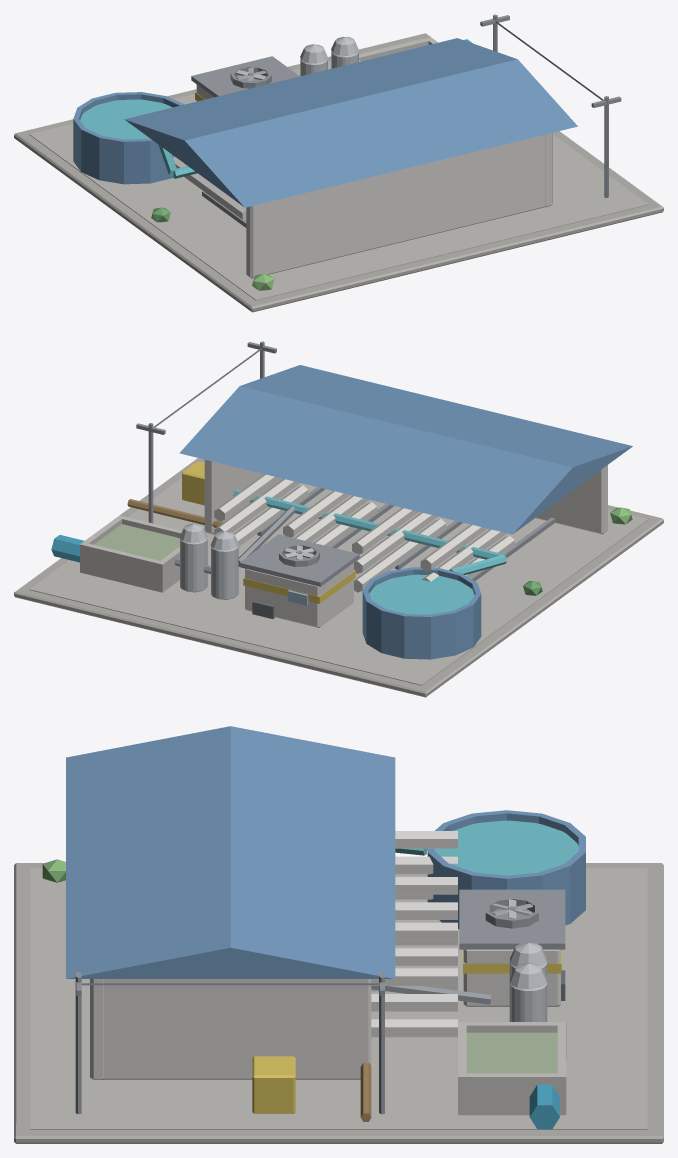
Rendered from agua__usina_dessalinizacao.glb.
3 renders of one model, top to bottom at view 1: azimuth 30°, elevation 25°; view 2: azimuth 150°, elevation 25°; view 3: azimuth 270°, elevation 25°, orthographic. The views are drawn at different scales.
Parts seen in each view (by area): view 1: agua__usina_dessalinizacao; view 2: agua__usina_dessalinizacao; view 3: agua__usina_dessalinizacao.
Part boxes in pixels (x1,y1,x2,y2): agua__usina_dessalinizacao: (14, 14, 663, 312); agua__usina_dessalinizacao: (14, 341, 663, 697); agua__usina_dessalinizacao: (14, 726, 663, 1143).
Bounding box in the file's own units: 6 × 1.65 × 6.
